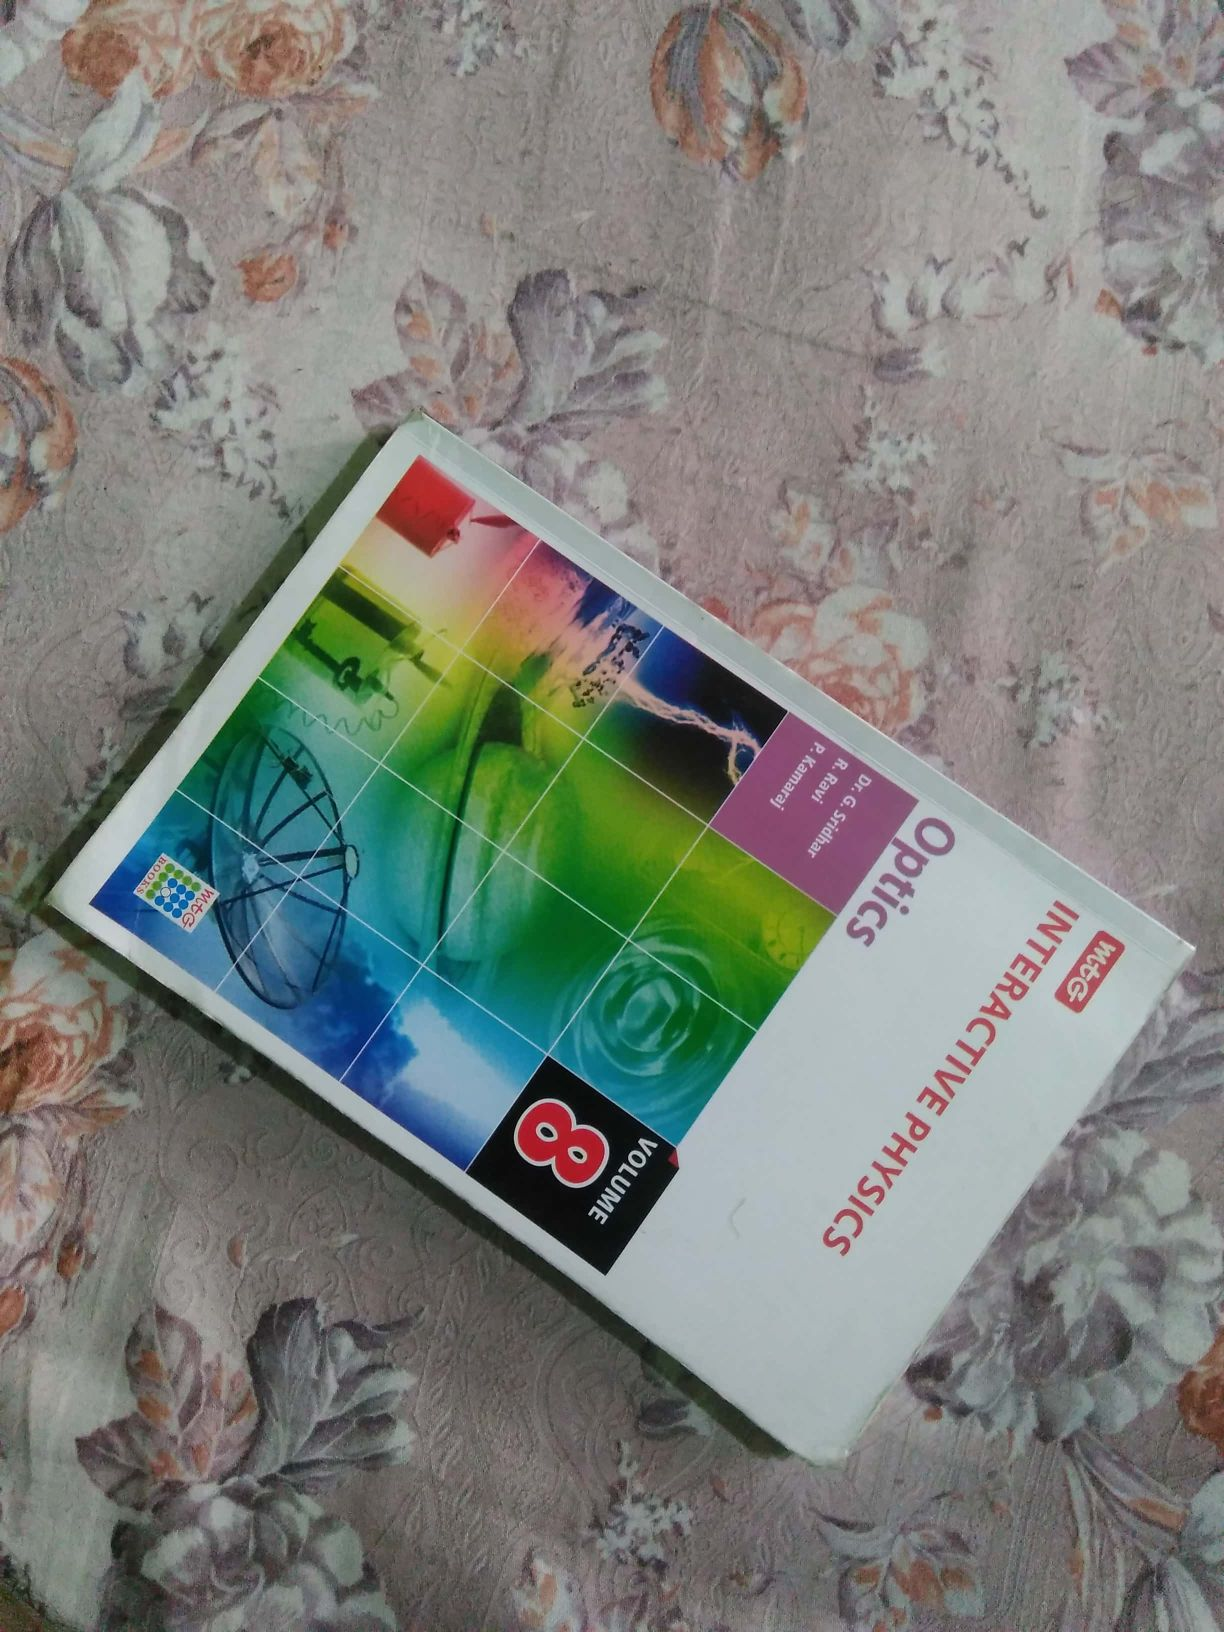optics: (59, 421, 1224, 1397)
